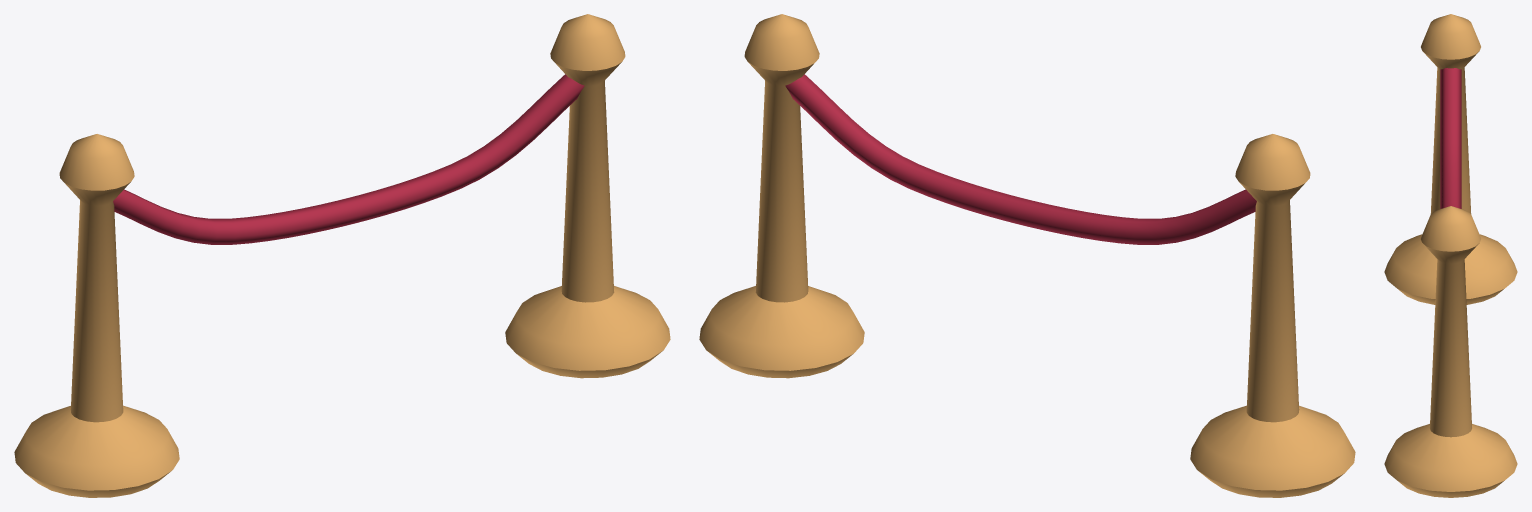
File: storybook-christmas-market-velvet-rope-bollards-585ff0b2__19705.glb
3 views of the same model, side by side, from view 1: azimuth 30°, elevation 25°; view 2: azimuth 150°, elevation 25°; view 3: azimuth 270°, elevation 25° (orthographic). The views are drawn at different scales.
Visible parts, largest first — view 1: velvet-rope-bollards; view 2: velvet-rope-bollards; view 3: velvet-rope-bollards.
Boxes of the visible parts, x1=… form: velvet-rope-bollards: x1=14, y1=14, x2=670, y2=497; velvet-rope-bollards: x1=699, y1=14, x2=1355, y2=497; velvet-rope-bollards: x1=1384, y1=14, x2=1517, y2=497.
Bounding box in the file's own units: 1.94 × 0.9801 × 0.44.
